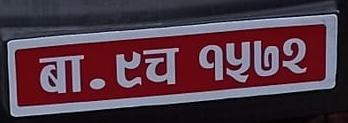1: (197, 43, 226, 82)
2: (282, 37, 307, 74)
5: (225, 40, 251, 84)
7: (251, 37, 282, 78)
9: (114, 50, 143, 88)
ba: (37, 54, 85, 95)
cha: (141, 46, 180, 88)
